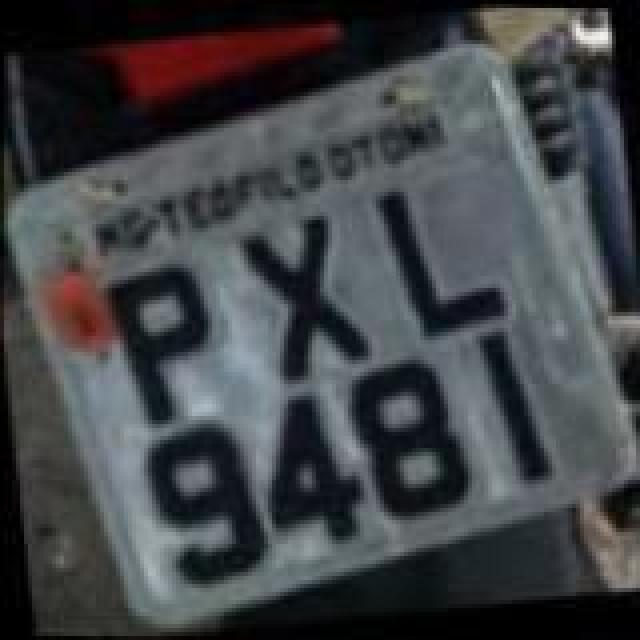1: (474, 324, 566, 492)
4: (248, 378, 368, 554)
8: (336, 344, 480, 528)
9: (132, 410, 280, 598)
L: (370, 164, 518, 348)
P: (98, 252, 226, 432)
X: (230, 202, 382, 394)
